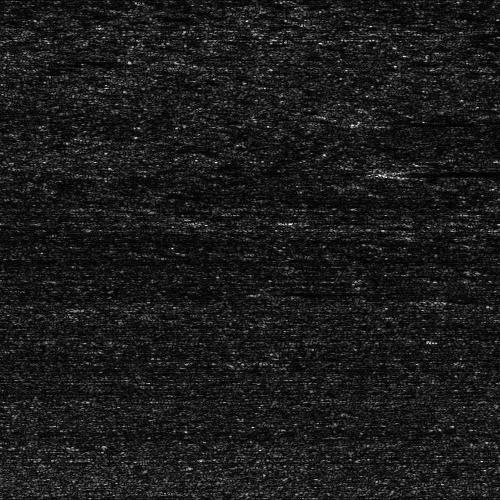object: (373, 167, 436, 176), (258, 287, 311, 294), (275, 218, 316, 221)
shadow: (405, 167, 500, 176), (285, 287, 376, 294), (377, 121, 473, 124), (296, 218, 387, 221)
